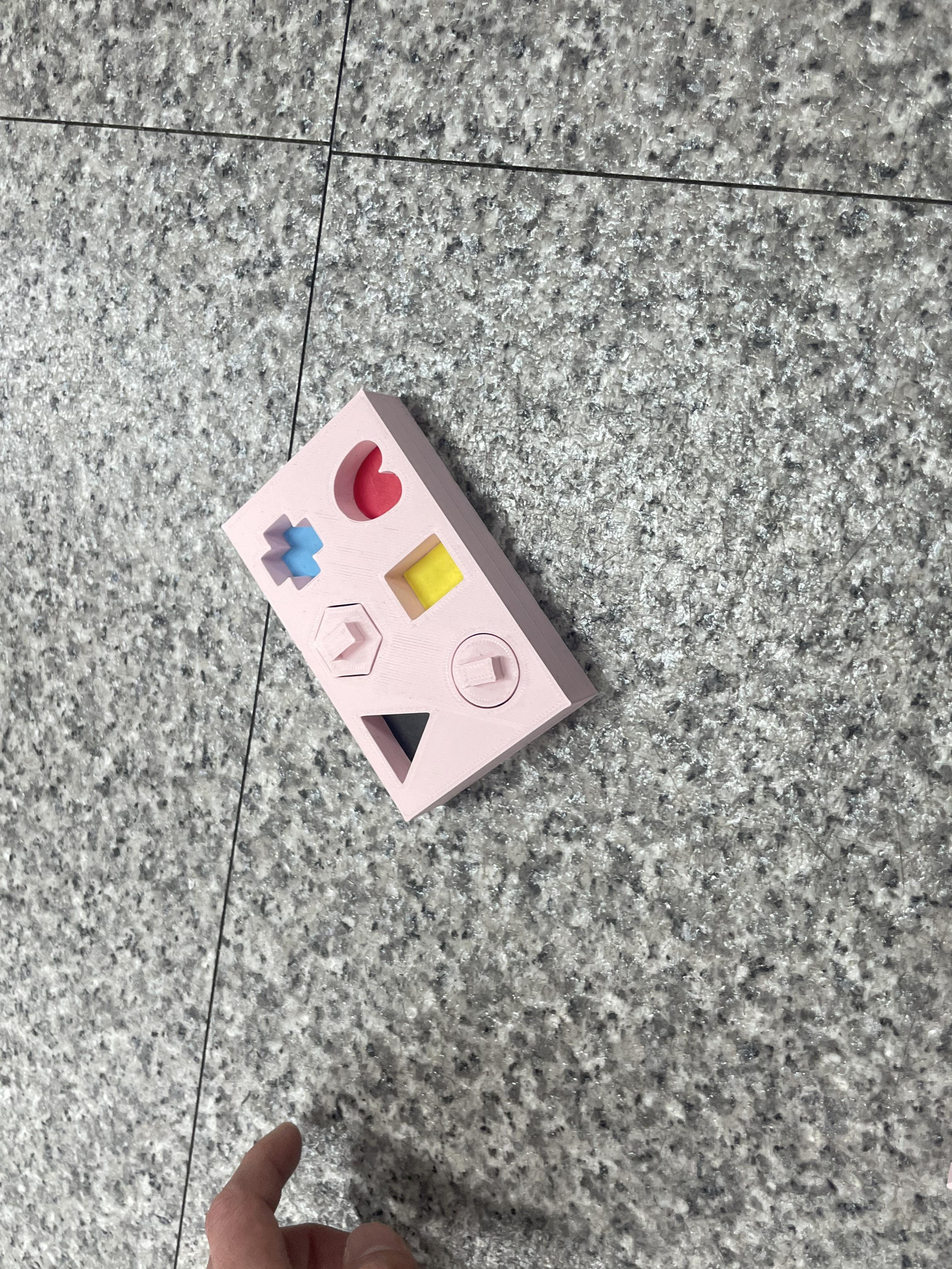unsolved: (201, 353, 659, 853)
